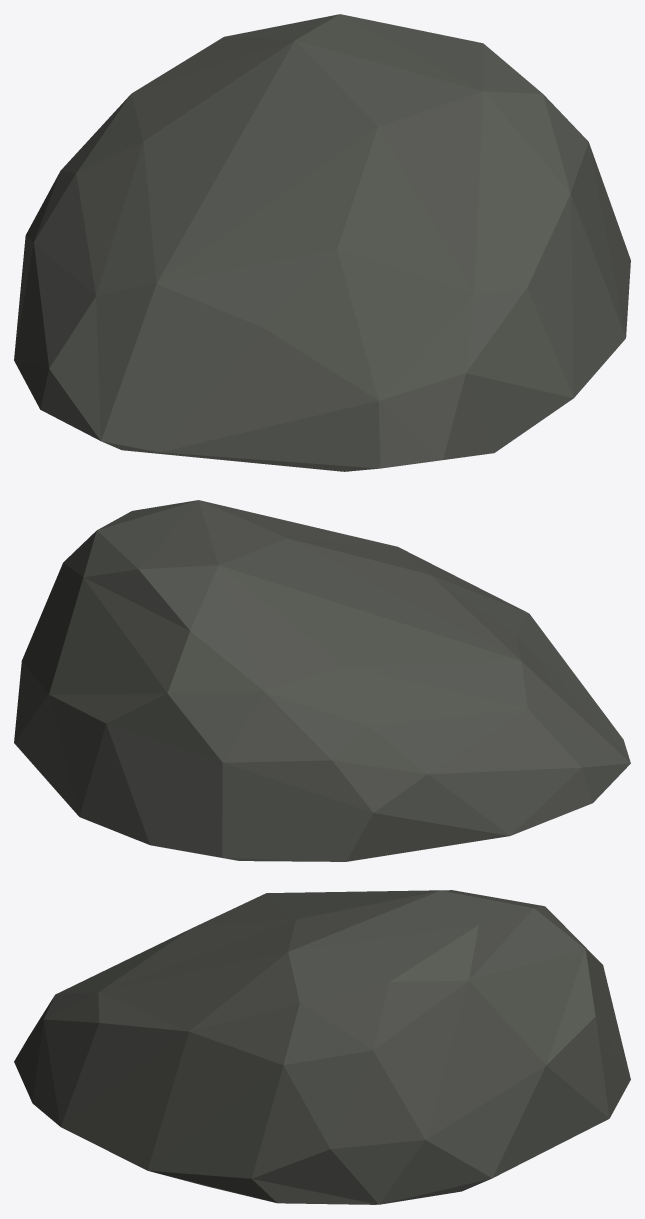
The model's file is S_Rock_07.fbx.
3 views of the same model, one above another, from view 1: azimuth 30°, elevation 25°; view 2: azimuth 150°, elevation 25°; view 3: azimuth 270°, elevation 25° (orthographic). The views are drawn at different scales.
Visible parts, largest first — view 1: S_Rock_07; view 2: S_Rock_07; view 3: S_Rock_07.
Boxes of the visible parts, x1,y1,x2,y2 form: S_Rock_07: [14, 14, 630, 471]; S_Rock_07: [14, 500, 630, 861]; S_Rock_07: [14, 890, 630, 1204].
Size of the model in its own units: 144 by 64.95 by 147.
Materials: 1 (1 with a texture image).
